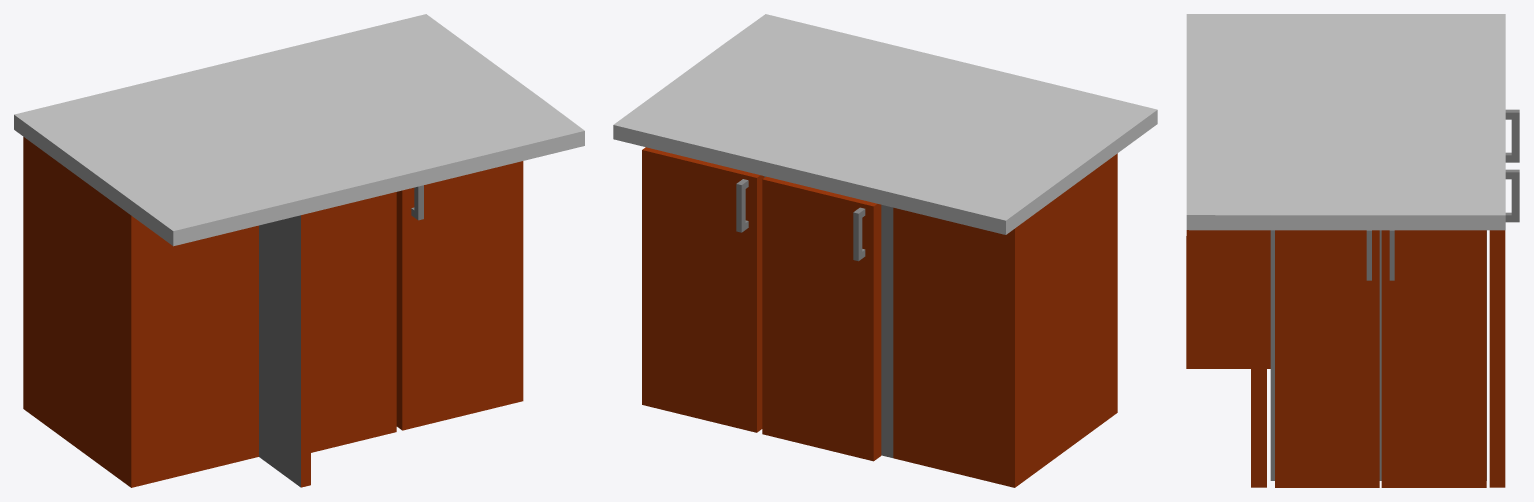
Rendered from isola_cucina_150x90_Scene.obj.
3 views of the same model, side by side, from view 1: azimuth 30°, elevation 25°; view 2: azimuth 150°, elevation 25°; view 3: azimuth 270°, elevation 25° (orthographic). The views are drawn at different scales.
Visible parts, largest first — view 1: Cube_Cube_Wood_Cherry, Cube_Cube_Piano, Cube_Cube_Aluminum; view 2: Cube_Cube_Wood_Cherry, Cube_Cube_Piano, Cube_Cube_Aluminum; view 3: Cube_Cube_Wood_Cherry, Cube_Cube_Piano, Cube_Cube_Aluminum.
Boxes of the visible parts, x1,y1,x2,y2 form: Cube_Cube_Wood_Cherry: (23, 137, 523, 487); Cube_Cube_Piano: (14, 14, 584, 246); Cube_Cube_Aluminum: (259, 185, 423, 487); Cube_Cube_Wood_Cherry: (642, 147, 1117, 487); Cube_Cube_Piano: (613, 14, 1157, 234); Cube_Cube_Aluminum: (736, 176, 893, 457); Cube_Cube_Wood_Cherry: (1186, 230, 1505, 487); Cube_Cube_Piano: (1186, 14, 1505, 230); Cube_Cube_Aluminum: (1270, 109, 1519, 480).
Bounding box in the file's own units: 6.03 × 4.02 × 4.21.
